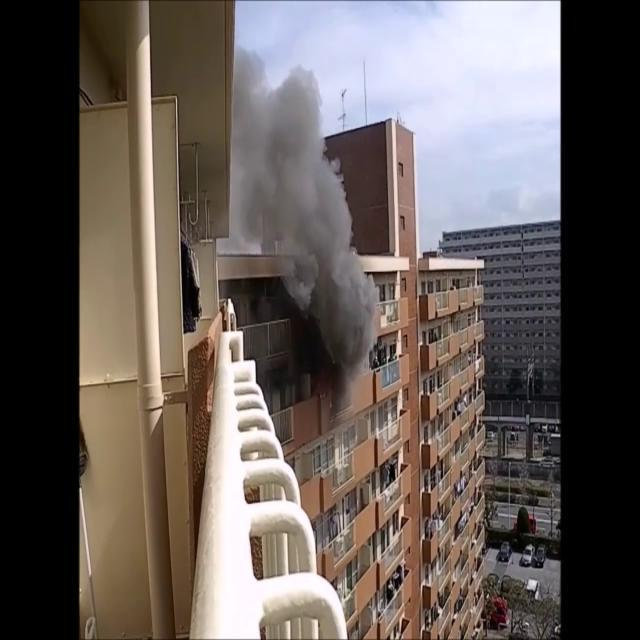Smoke: (227, 37, 374, 395)
